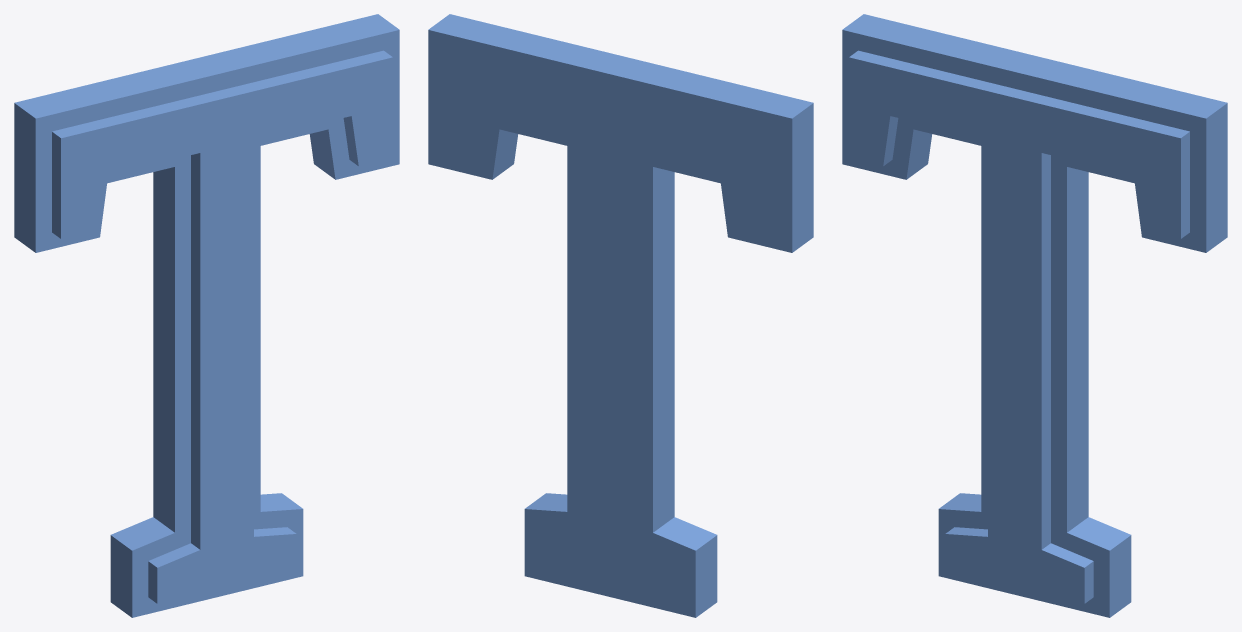
The model's file is uploads_files_2164760_T1.FBX.
The picture shows the model from 3 angles, left to right: view 1: azimuth 30°, elevation 25°; view 2: azimuth 150°, elevation 25°; view 3: azimuth 330°, elevation 25°; orthographic projection.
Parts seen in each view (by area): view 1: T; view 2: T; view 3: T.
Boxes of the visible parts, x1=… form: T: x1=14, y1=14, x2=399, y2=617; T: x1=428, y1=14, x2=813, y2=617; T: x1=842, y1=14, x2=1227, y2=617.
Size of the model in its own units: 3.4 by 4.67 by 0.5.
